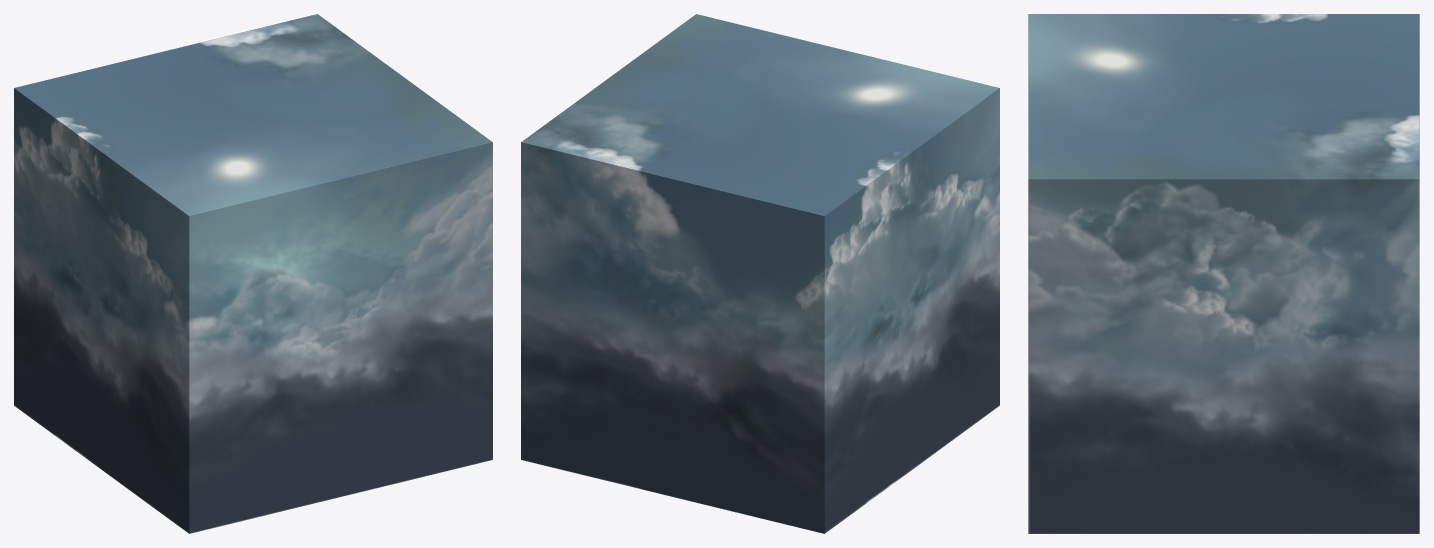
The model's file is miramar2.obj.
3 views of the same model, side by side, from view 1: azimuth 30°, elevation 25°; view 2: azimuth 150°, elevation 25°; view 3: azimuth 270°, elevation 25° (orthographic). The views are drawn at different scales.
Visible parts, largest first — view 1: miramar; view 2: miramar; view 3: miramar.
Boxes of the visible parts, x1,y1,x2,y2 form: miramar: (14,14,492,533); miramar: (521,14,999,533); miramar: (1028,14,1419,533).
Size of the model in its own units: 1969 by 1969 by 1969.
1 material, 1 textured.
